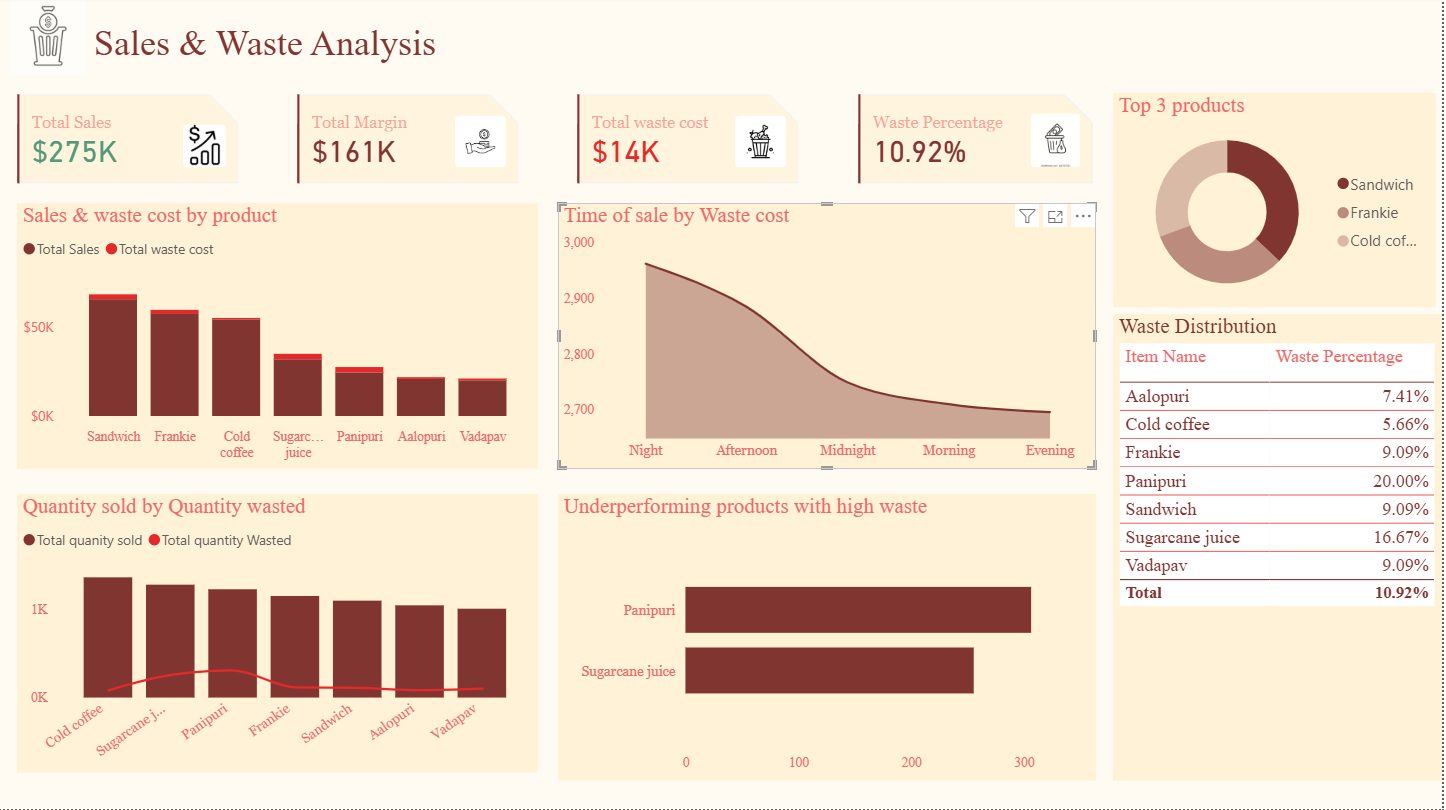

The dashboard page shown, as its layout file describes it:
{"tool":"powerbi","page":{"name":"Page 1","canvas":[1280,720],"ordinal":0},"visuals":[{"type":"cardVisual","fields":{"Data":["Inventory_Usage.Item Margin"]},"box":[248.5,69.2,230.5,113.5],"z":0},{"type":"textbox","box":[0,0,1280,69.2],"z":1000},{"type":"cardVisual","fields":{"Data":["sales_data.Total Sales"]},"box":[0,69.2,230.5,113.5],"z":2000},{"type":"cardVisual","fields":{"Data":["Inventory_Usage.Waste %"]},"box":[745.5,69.2,243,113.5],"z":3000},{"type":"cardVisual","fields":{"Data":["Inventory_Usage.Total waste cost"]},"box":[497,69.2,230.5,113.5],"z":4000},{"type":"image","box":[0,0,89.4,69.2],"z":5000},{"type":"columnChart","title":"Sales & waste cost by product","fields":{"Category":["sales_data.Item_name"],"Y":["sales_data.Total Sales","Inventory_Usage.Total waste cost"]},"box":[16.8,182.7,462,235.9],"z":6000},{"type":"lineStackedColumnComboChart","title":"Quantity sold by Quantity wasted","fields":{"Category":["Inventory_Usage.Item_name"],"Y":["Inventory_Usage.Total quanity sold"],"Y2":["Inventory_Usage.Total quantity Wasted"]},"box":[16.8,440.7,462,246.5],"z":7000},{"type":"donutChart","title":"Top 3 products","fields":{"Y":["sales_data.Total Sales"],"Category":["sales_data.Item_name"]},"box":[988.7,85.1,285.5,189.8],"z":8000},{"type":"areaChart","title":"Time of sale by Waste cost","fields":{"Y":["inventory usage balaji.Total wate value"],"Category":["inventory usage balaji.Time of sale"]},"box":[496.6,182.7,477,235.9],"z":9000},{"type":"barChart","title":"Underperforming products with high waste","fields":{"Category":["sales_data.Item_name"],"Y":["Inventory_Usage.Total quantity Wasted"]},"box":[496.6,440.7,477,254.5],"z":10000},{"type":"tableEx","title":"Waste Distribution","fields":{"Values":["Inventory_Usage.Item_name","Inventory_Usage.Waste %"]},"box":[988.7,281.1,291.7,414.1],"z":11000}]}

Visuals, with their boxes in screenshot pixels (x1, y1, x2, y2), scaled from the page's 1280x720 canvas onto the 1446x810 screenshot:
cardVisual - Inventory_Usage.Item Margin: [281,78,541,206]
textbox: [0,0,1445,78]
cardVisual - sales_data.Total Sales: [0,78,260,206]
cardVisual - Inventory_Usage.Waste %: [842,78,1117,206]
cardVisual - Inventory_Usage.Total waste cost: [561,78,822,206]
image: [0,0,101,78]
"Sales & waste cost by product" columnChart: [19,206,541,471]
"Quantity sold by Quantity wasted" lineStackedColumnComboChart: [19,496,541,773]
"Top 3 products" donutChart: [1117,96,1439,309]
"Time of sale by Waste cost" areaChart: [561,206,1100,471]
"Underperforming products with high waste" barChart: [561,496,1100,782]
"Waste Distribution" tableEx: [1117,316,1445,782]
